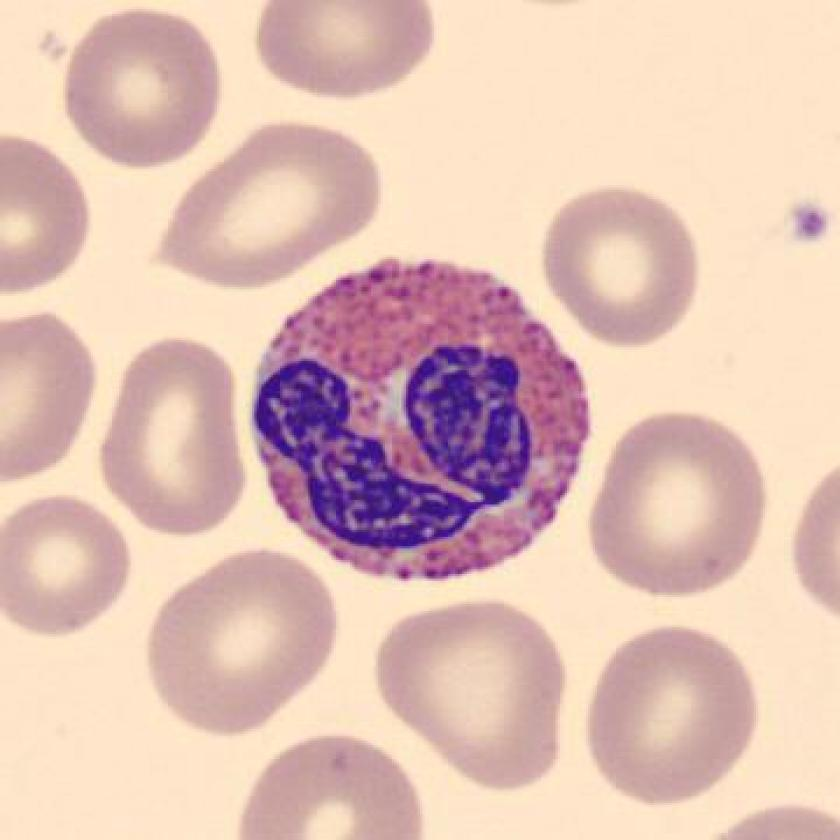eosinophil: (239, 244, 601, 596)
